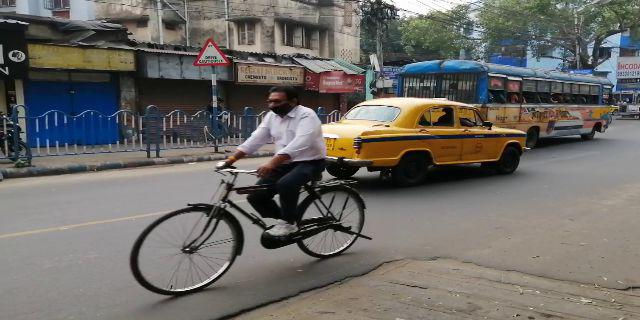Bus: (396, 63, 624, 128)
Car: (326, 94, 531, 179)
Cycle: (130, 85, 372, 301)
